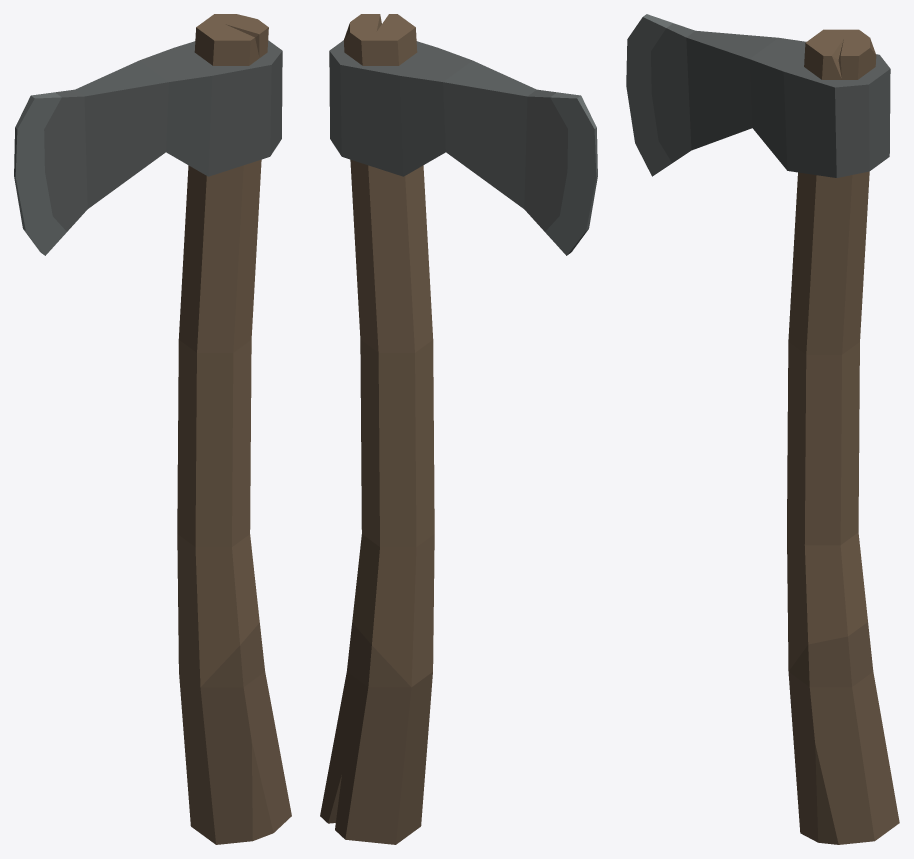
File: SM_Props_Farm_Tool_Axe_01.fbx
3 views of the same model, side by side, from view 1: azimuth 30°, elevation 25°; view 2: azimuth 150°, elevation 25°; view 3: azimuth 330°, elevation 25° (orthographic).
Visible parts, largest first — view 1: SM_Props_Farm_Tool_Axe_01; view 2: SM_Props_Farm_Tool_Axe_01; view 3: SM_Props_Farm_Tool_Axe_01.
Part boxes in pixels (bbox=[...]): SM_Props_Farm_Tool_Axe_01: bbox=[14, 14, 291, 844]; SM_Props_Farm_Tool_Axe_01: bbox=[320, 14, 597, 844]; SM_Props_Farm_Tool_Axe_01: bbox=[626, 14, 899, 844].
Bounding box in the file's own units: 32.99 × 95.48 × 10.4.
